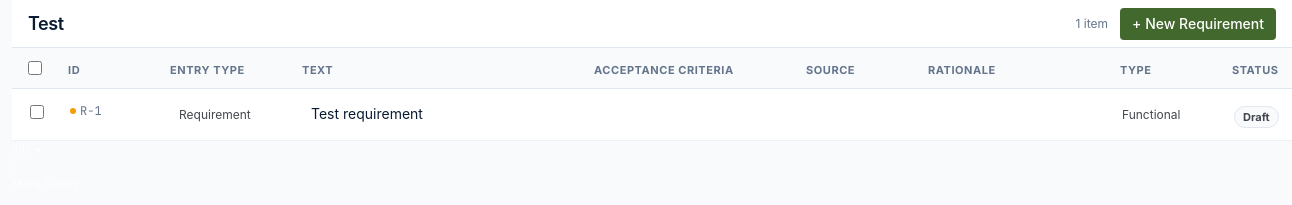
Test: RequirementsList › context menu shows Duplicate, Copy ID and Delete
Right-click the text "R-1".
right_click(91, 111)  # box [80,103,102,119]
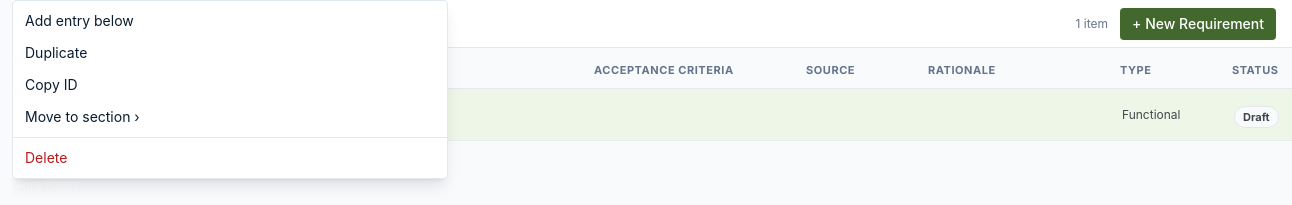
Result: the menu item "Duplicate" is shown at [13,37,448,69]
Result: the menu item "Copy ID" is shown at [13,69,448,101]
Result: the menu item "Delete" is shown at [13,142,448,174]
